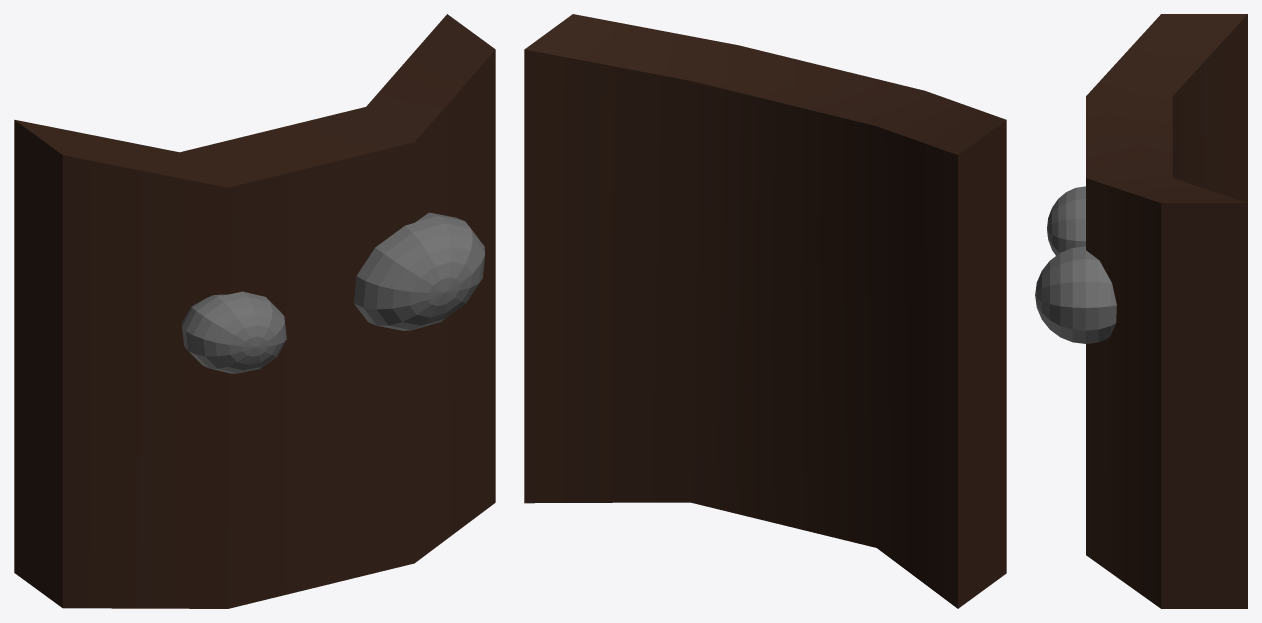
The model's file is Mask 1.fbx.
The picture shows the model from 3 angles, left to right: view 1: azimuth 30°, elevation 25°; view 2: azimuth 150°, elevation 25°; view 3: azimuth 270°, elevation 25°; orthographic projection. The views are drawn at different scales.
Visible parts, largest first — view 1: pCube3; view 2: pCube3; view 3: pCube3.
Part boxes in pixels (box(x1,y1,x2,y2)): pCube3: box(14, 14, 495, 608); pCube3: box(524, 14, 1006, 608); pCube3: box(1035, 14, 1247, 608).
Bounding box in the file's own units: 12.92 × 12.92 × 6.14.
